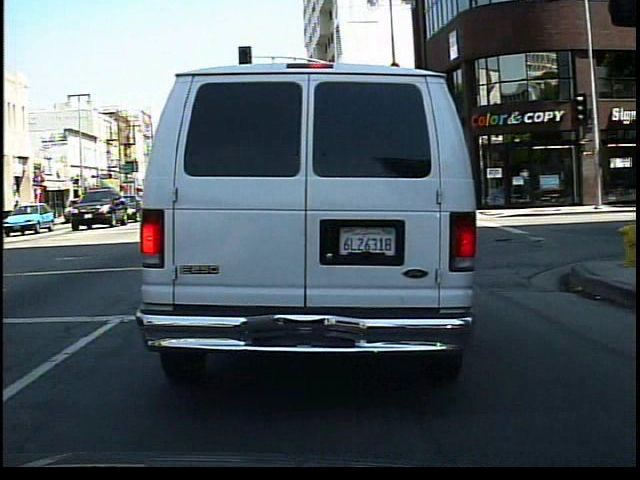person: (8, 196, 25, 228)
